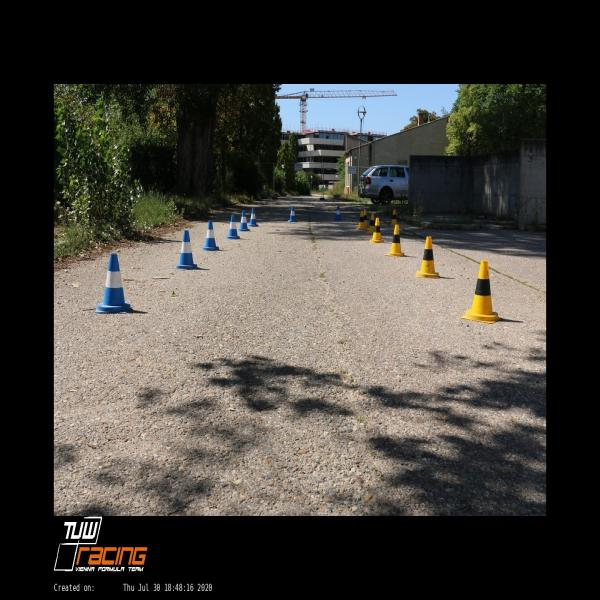blue_cone: (95, 253, 131, 313), (174, 230, 197, 270), (202, 220, 219, 250), (226, 214, 240, 238), (238, 209, 250, 231), (248, 208, 258, 226), (288, 206, 297, 222), (334, 206, 342, 221)
yellow_cone: (461, 260, 501, 324), (415, 236, 440, 279), (386, 224, 404, 256), (369, 218, 384, 242), (366, 213, 376, 235), (389, 209, 400, 227), (357, 210, 366, 230), (362, 209, 369, 228)
